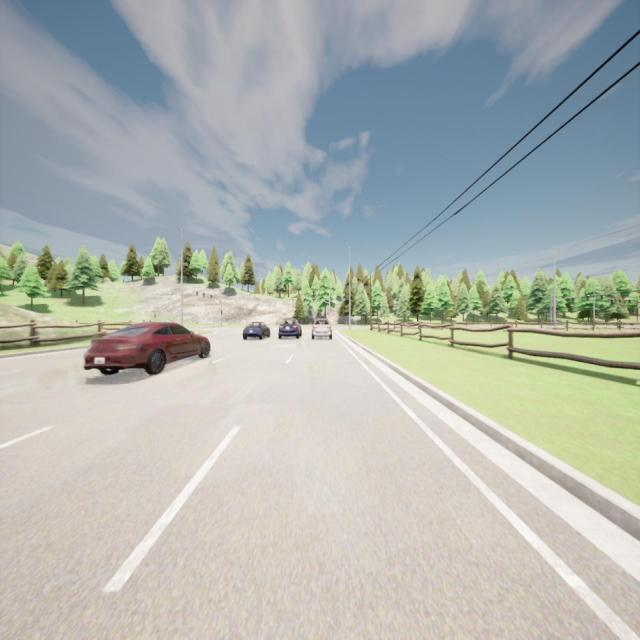Vehicle: (84, 322, 210, 374), (242, 322, 271, 341), (279, 318, 302, 341), (313, 317, 332, 343)
traffic_light: (196, 291, 198, 297), (210, 294, 212, 298), (221, 310, 223, 314), (203, 293, 204, 297)
